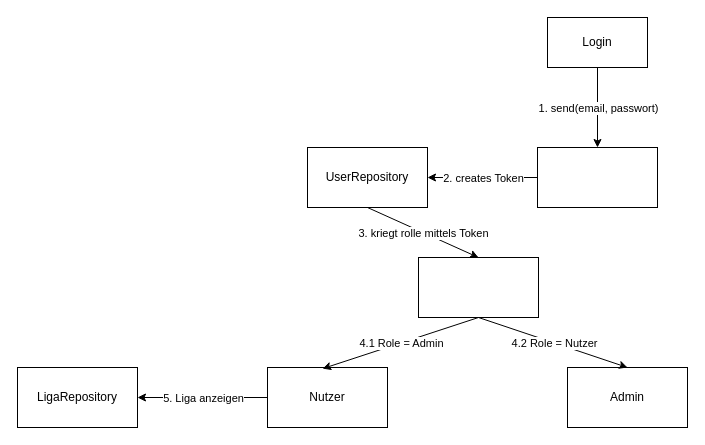
The diagram is 705 pixels wide and 445 high, and some of its shapes have lost their labels. Here are the shapes that lost their labels. From the top down, the centre of each, then its label:
At (x=597, y=177): "AuthService".
At (x=478, y=287): "LoginController".
